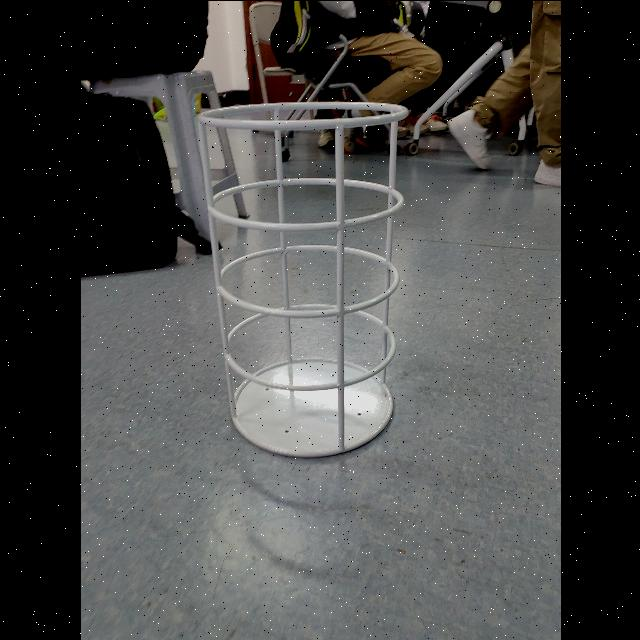S: (193, 96, 411, 460)
